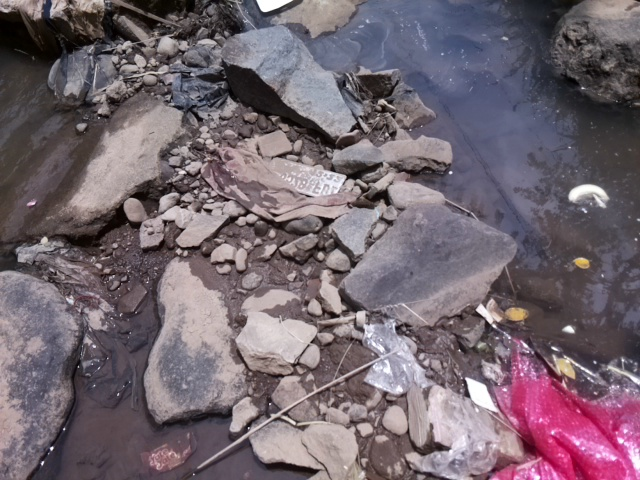Sampah_Plastik: (496, 349, 638, 480), (356, 320, 430, 396), (172, 67, 224, 107)
